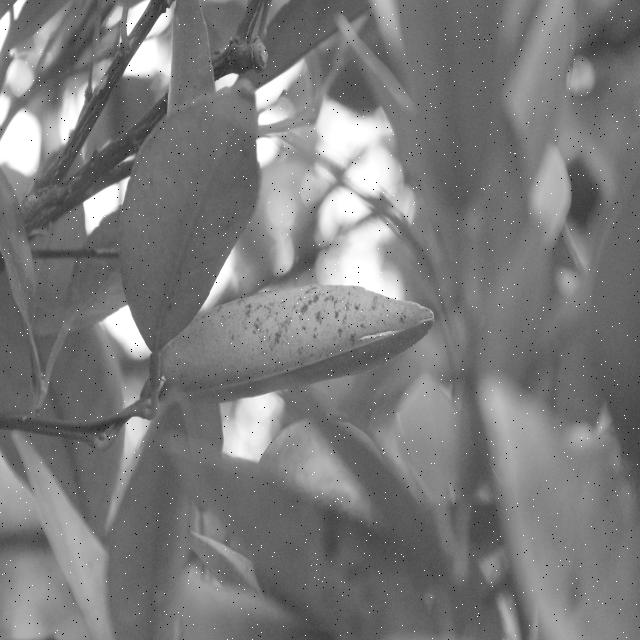melanose: (214, 281, 425, 396)
